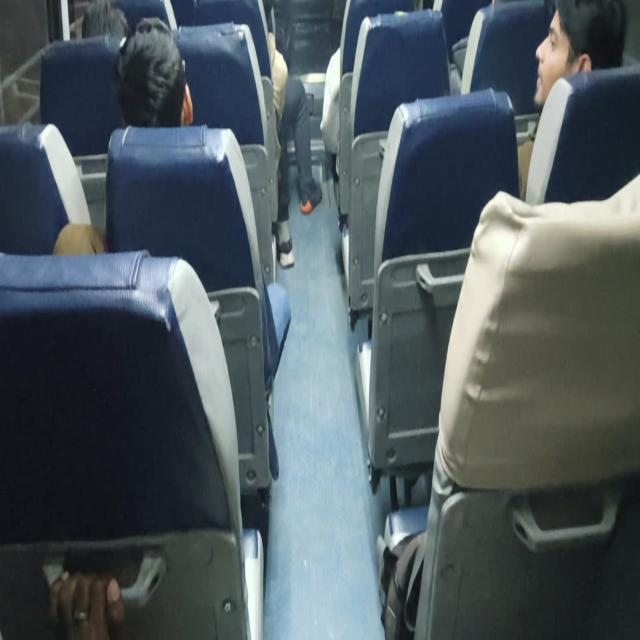person: (534, 0, 626, 96), (126, 27, 202, 122), (74, 0, 131, 37)
